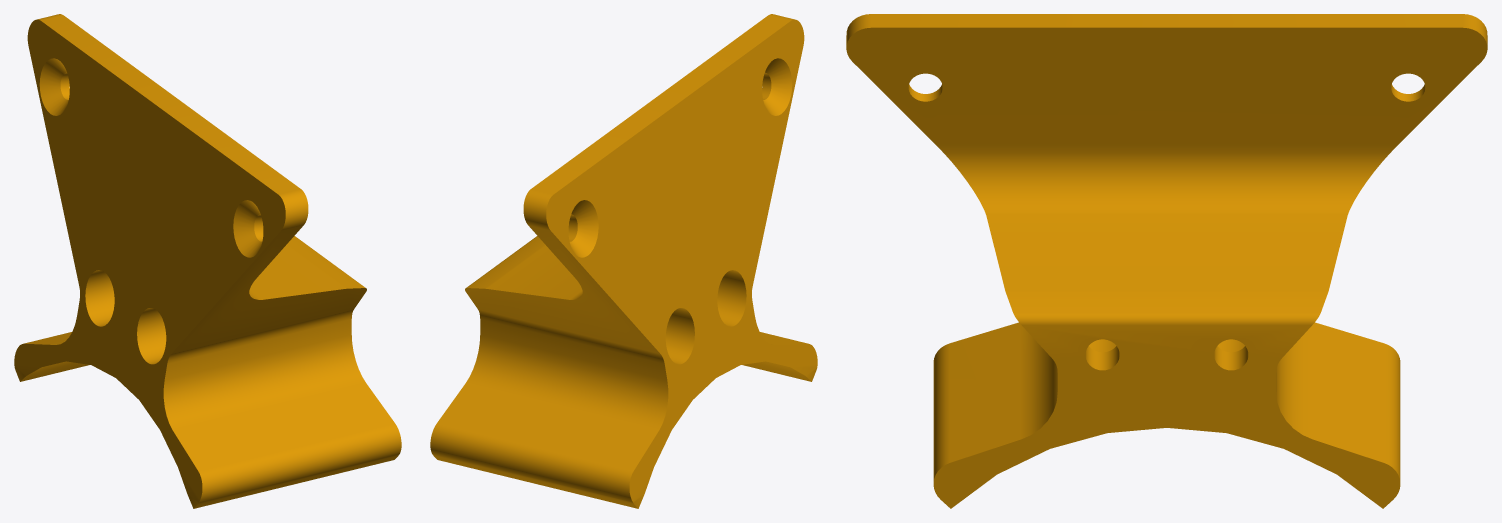
File: realsense_mount.dae
The picture shows the model from 3 angles, left to right: view 1: azimuth 30°, elevation 25°; view 2: azimuth 150°, elevation 25°; view 3: azimuth 270°, elevation 25°; orthographic projection. The views are drawn at different scales.
Parts seen in each view (by area): view 1: realsense_mount; view 2: realsense_mount; view 3: realsense_mount.
Boxes of the visible parts, box(x1,y1,x2,y2) form: realsense_mount: box(14, 14, 401, 508); realsense_mount: box(430, 14, 817, 508); realsense_mount: box(846, 14, 1487, 508).
Size of the model in its own units: 0.027 by 0.0598 by 0.0416.
